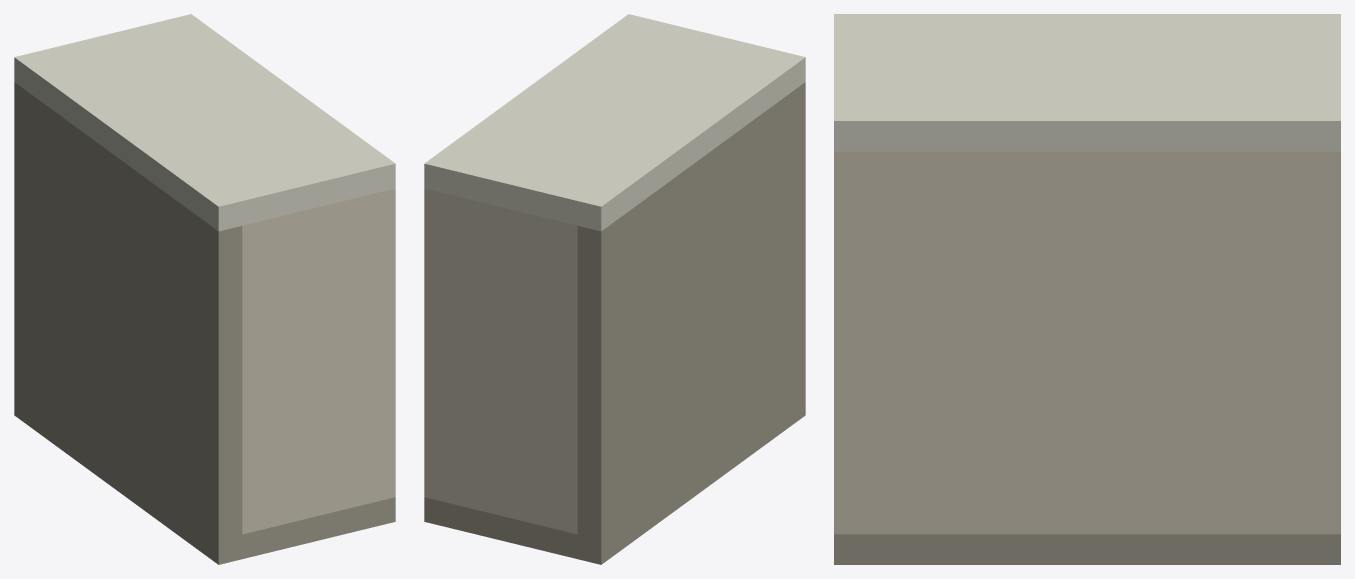
File: vitrina_libros_abedul_01.glb
3 renders of one model, left to right at view 1: azimuth 30°, elevation 25°; view 2: azimuth 150°, elevation 25°; view 3: azimuth 270°, elevation 25°, orthographic. The views are drawn at different scales.
Parts seen in each view (by area): view 1: vitrina_libros_abedul; view 2: vitrina_libros_abedul; view 3: vitrina_libros_abedul.
Part boxes in pixels (x1,y1,x2,y2): vitrina_libros_abedul: (14, 14, 395, 564); vitrina_libros_abedul: (424, 14, 805, 564); vitrina_libros_abedul: (834, 14, 1340, 564).
Size of the model in its own units: 1 by 1.93 by 2.
